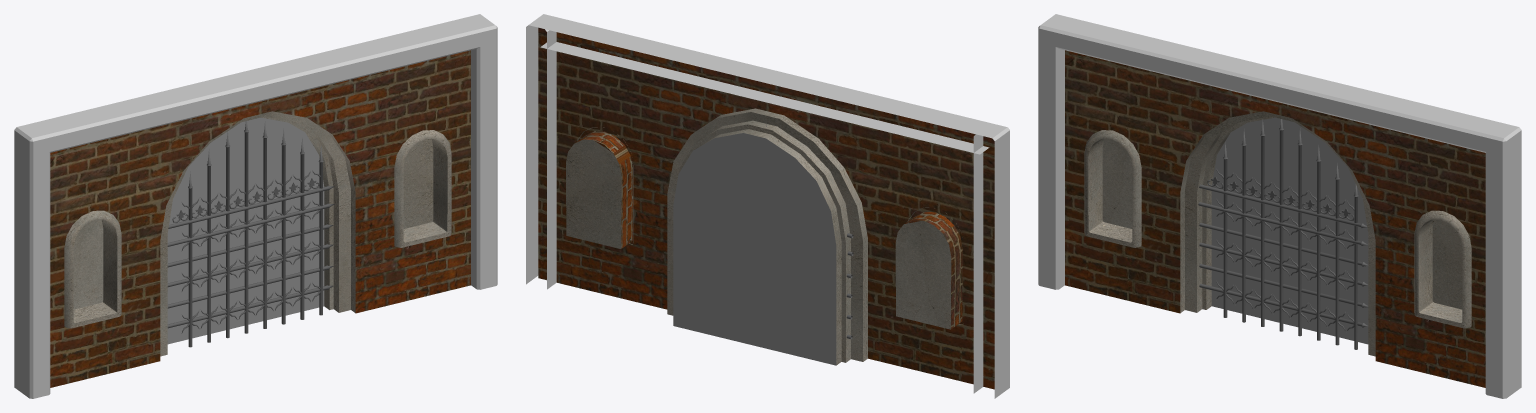
Rendered from Batiment_1_porte_en metal.FBX.
3 renders of one model, left to right at view 1: azimuth 30°, elevation 25°; view 2: azimuth 150°, elevation 25°; view 3: azimuth 330°, elevation 25°, orthographic.
Parts seen in each view (by area): view 1: Building001; view 2: Building001; view 3: Building001.
Boxes of the visible parts, x1,y1,x2,y2 form: Building001: (14, 14, 497, 398); Building001: (526, 14, 1009, 398); Building001: (1038, 14, 1521, 398).
Bounding box in the file's own units: 315 × 25.87 × 167.
